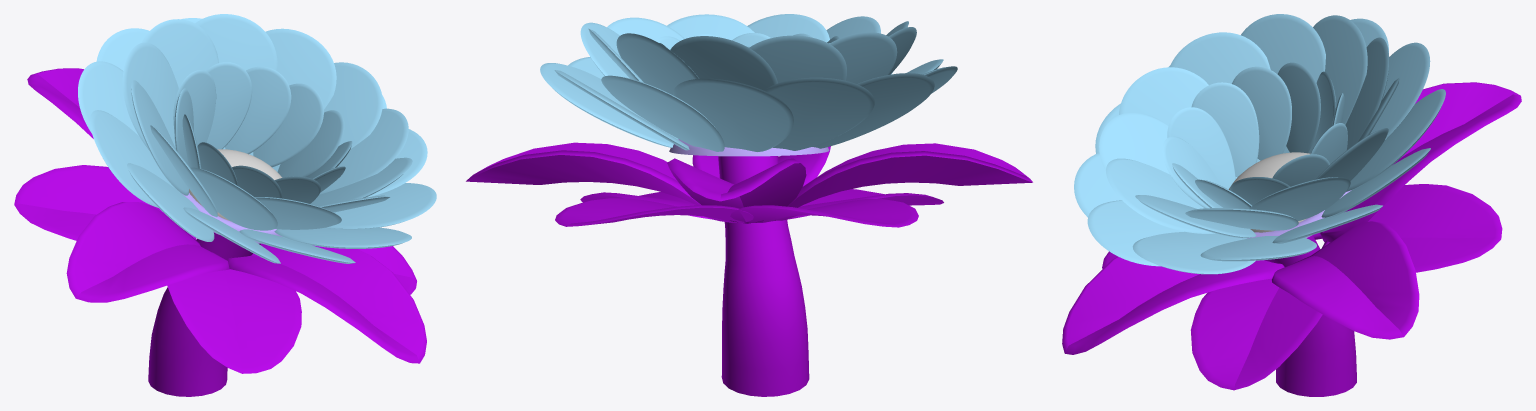
File: Flower3.fbx
3 views of the same model, side by side, from view 1: azimuth 30°, elevation 25°; view 2: azimuth 150°, elevation 25°; view 3: azimuth 270°, elevation 25° (orthographic). The views are drawn at different scales.
Parts seen in each view (by area): view 1: pedals3, leaves, stem3, center; view 2: pedals3, leaves, stem3; view 3: pedals3, leaves, stem3, center.
Boxes of the visible parts, x1,y1,x2,y2 form: pedals3: (78,14,436,263); leaves: (14,68,426,373); stem3: (148,232,260,396); center: (189,149,282,221); pedals3: (540,14,957,151); leaves: (466,139,1032,227); stem3: (718,156,809,396); pedals3: (1074,14,1445,274); leaves: (1062,82,1521,390); stem3: (1264,235,1356,396); center: (1229,152,1310,232).
Bounding box in the file's own units: 0.9952 × 0.772 × 0.94.
